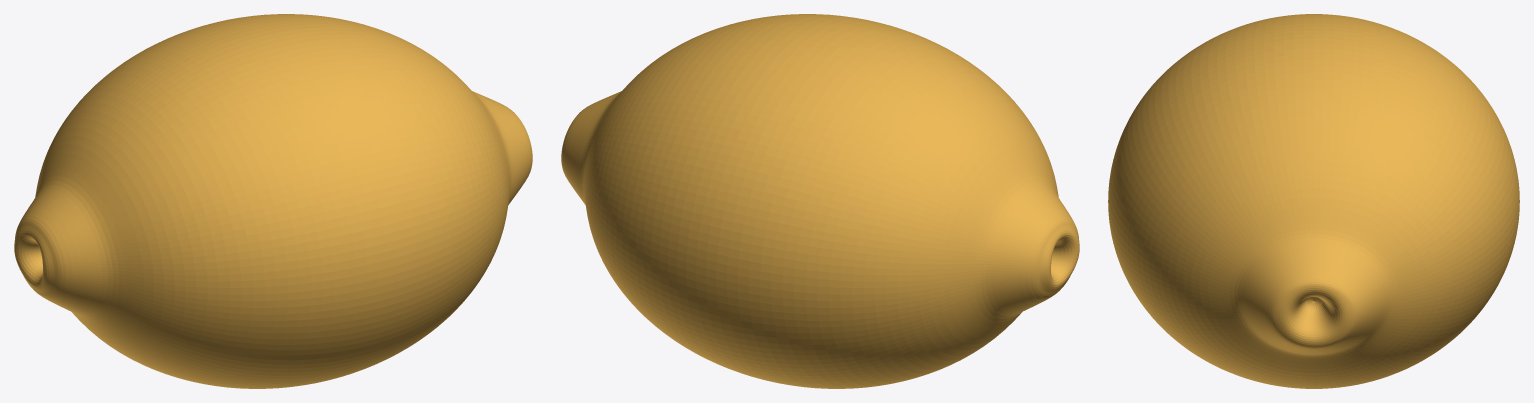
Rendered from PickupLemon.fbx.
The picture shows the model from 3 angles, left to right: view 1: azimuth 30°, elevation 25°; view 2: azimuth 150°, elevation 25°; view 3: azimuth 270°, elevation 25°; orthographic projection. The views are drawn at different scales.
Parts seen in each view (by area): view 1: Sphere; view 2: Sphere; view 3: Sphere.
Boxes of the visible parts, box(x1,y1,x2,y2) form: Sphere: box(14, 14, 532, 388); Sphere: box(561, 14, 1079, 388); Sphere: box(1108, 14, 1519, 388).
Bounding box in the file's own units: 301 × 193 × 228.
